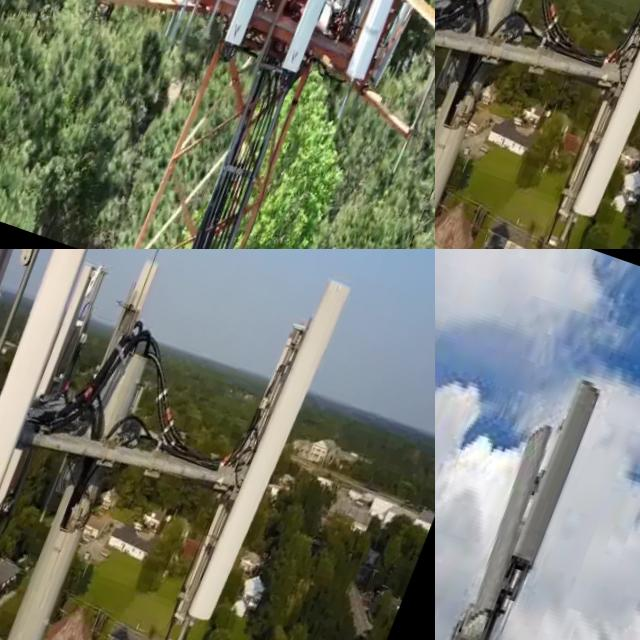GSM Antenna: (177, 251, 366, 640), (0, 249, 116, 640), (184, 312, 308, 614), (0, 255, 109, 531), (505, 372, 612, 584), (462, 418, 566, 622), (0, 249, 61, 582), (435, 0, 503, 249), (572, 0, 640, 231), (271, 0, 378, 99), (338, 0, 418, 91), (214, 0, 316, 56)
Microwave Antenna: (437, 585, 513, 640)
